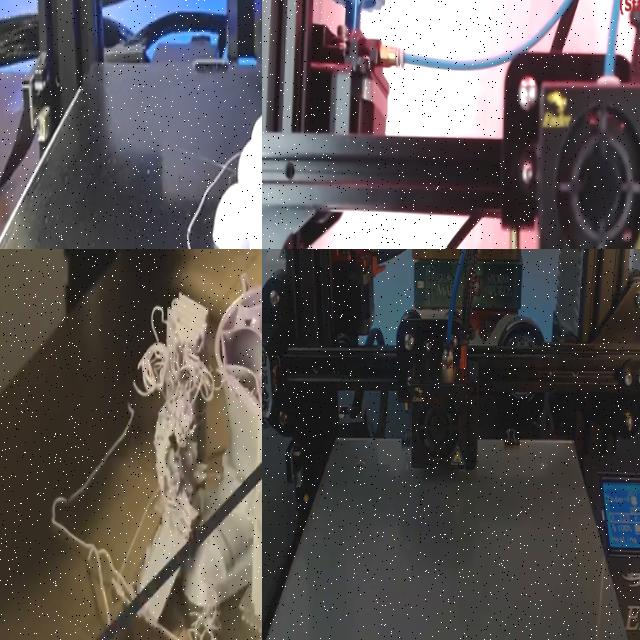spaghetti: (126, 290, 208, 554), (178, 588, 221, 640)
